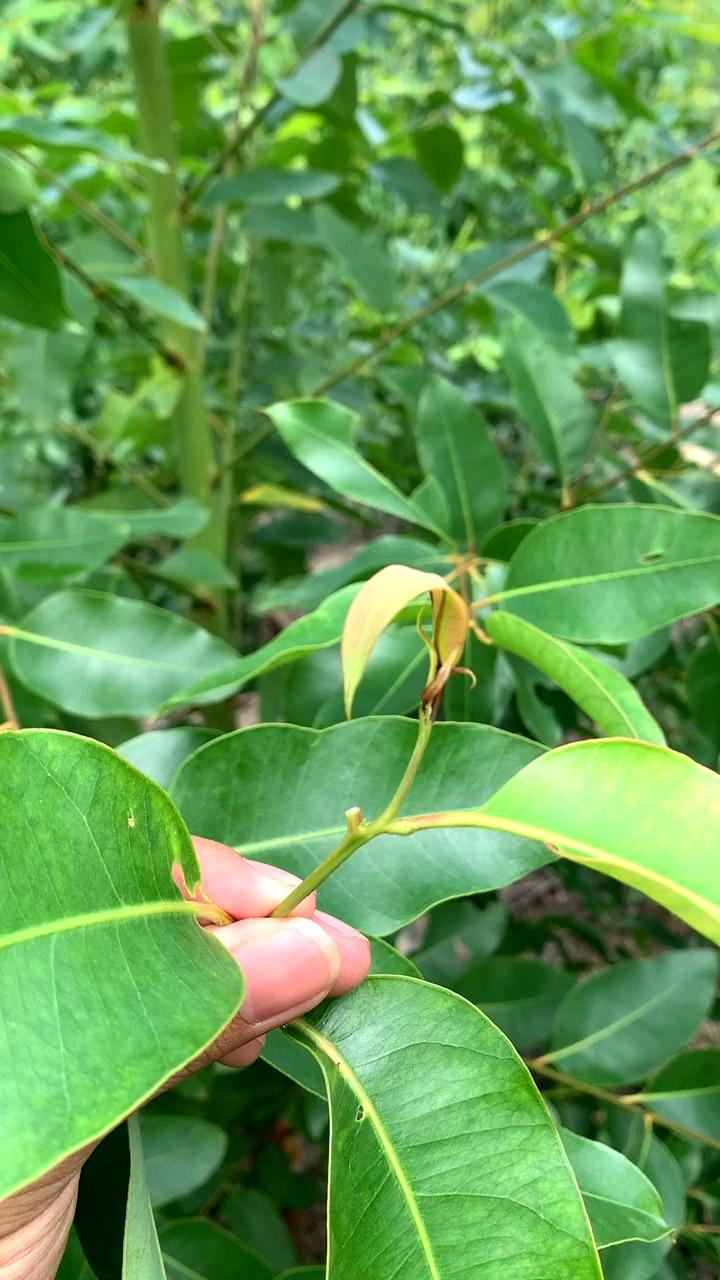Helopeltis-Withered Sprout: (311, 528, 477, 749)
